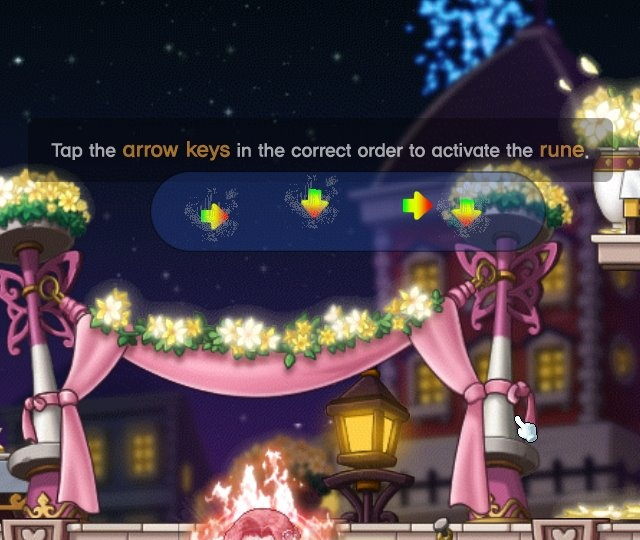rune_box: (145, 160, 555, 262)
